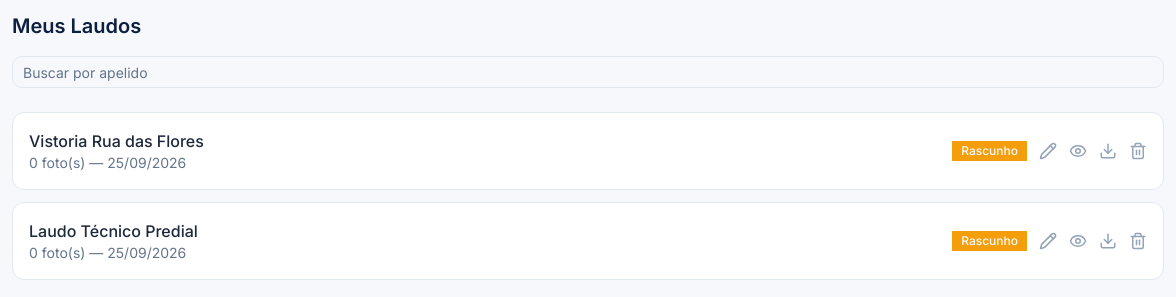
Scenario: LaudoList › filters by label
The image size is (1176, 297).
Type "flores" into the field named "buscar laudos" at (588, 72), box x1=12 y1=56 x2=1164 y2=88
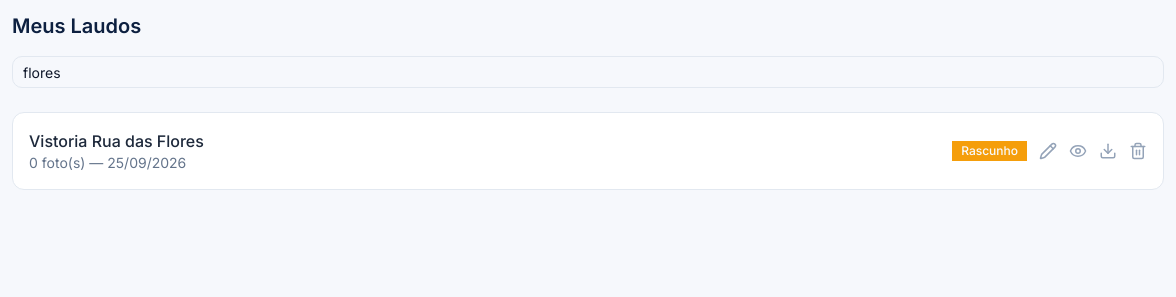
Expected: the text "Vistoria Rua das Flores" is shown, x1=29 y1=129 x2=204 y2=153
Now the text "Laudo Técnico Predial" is gone
